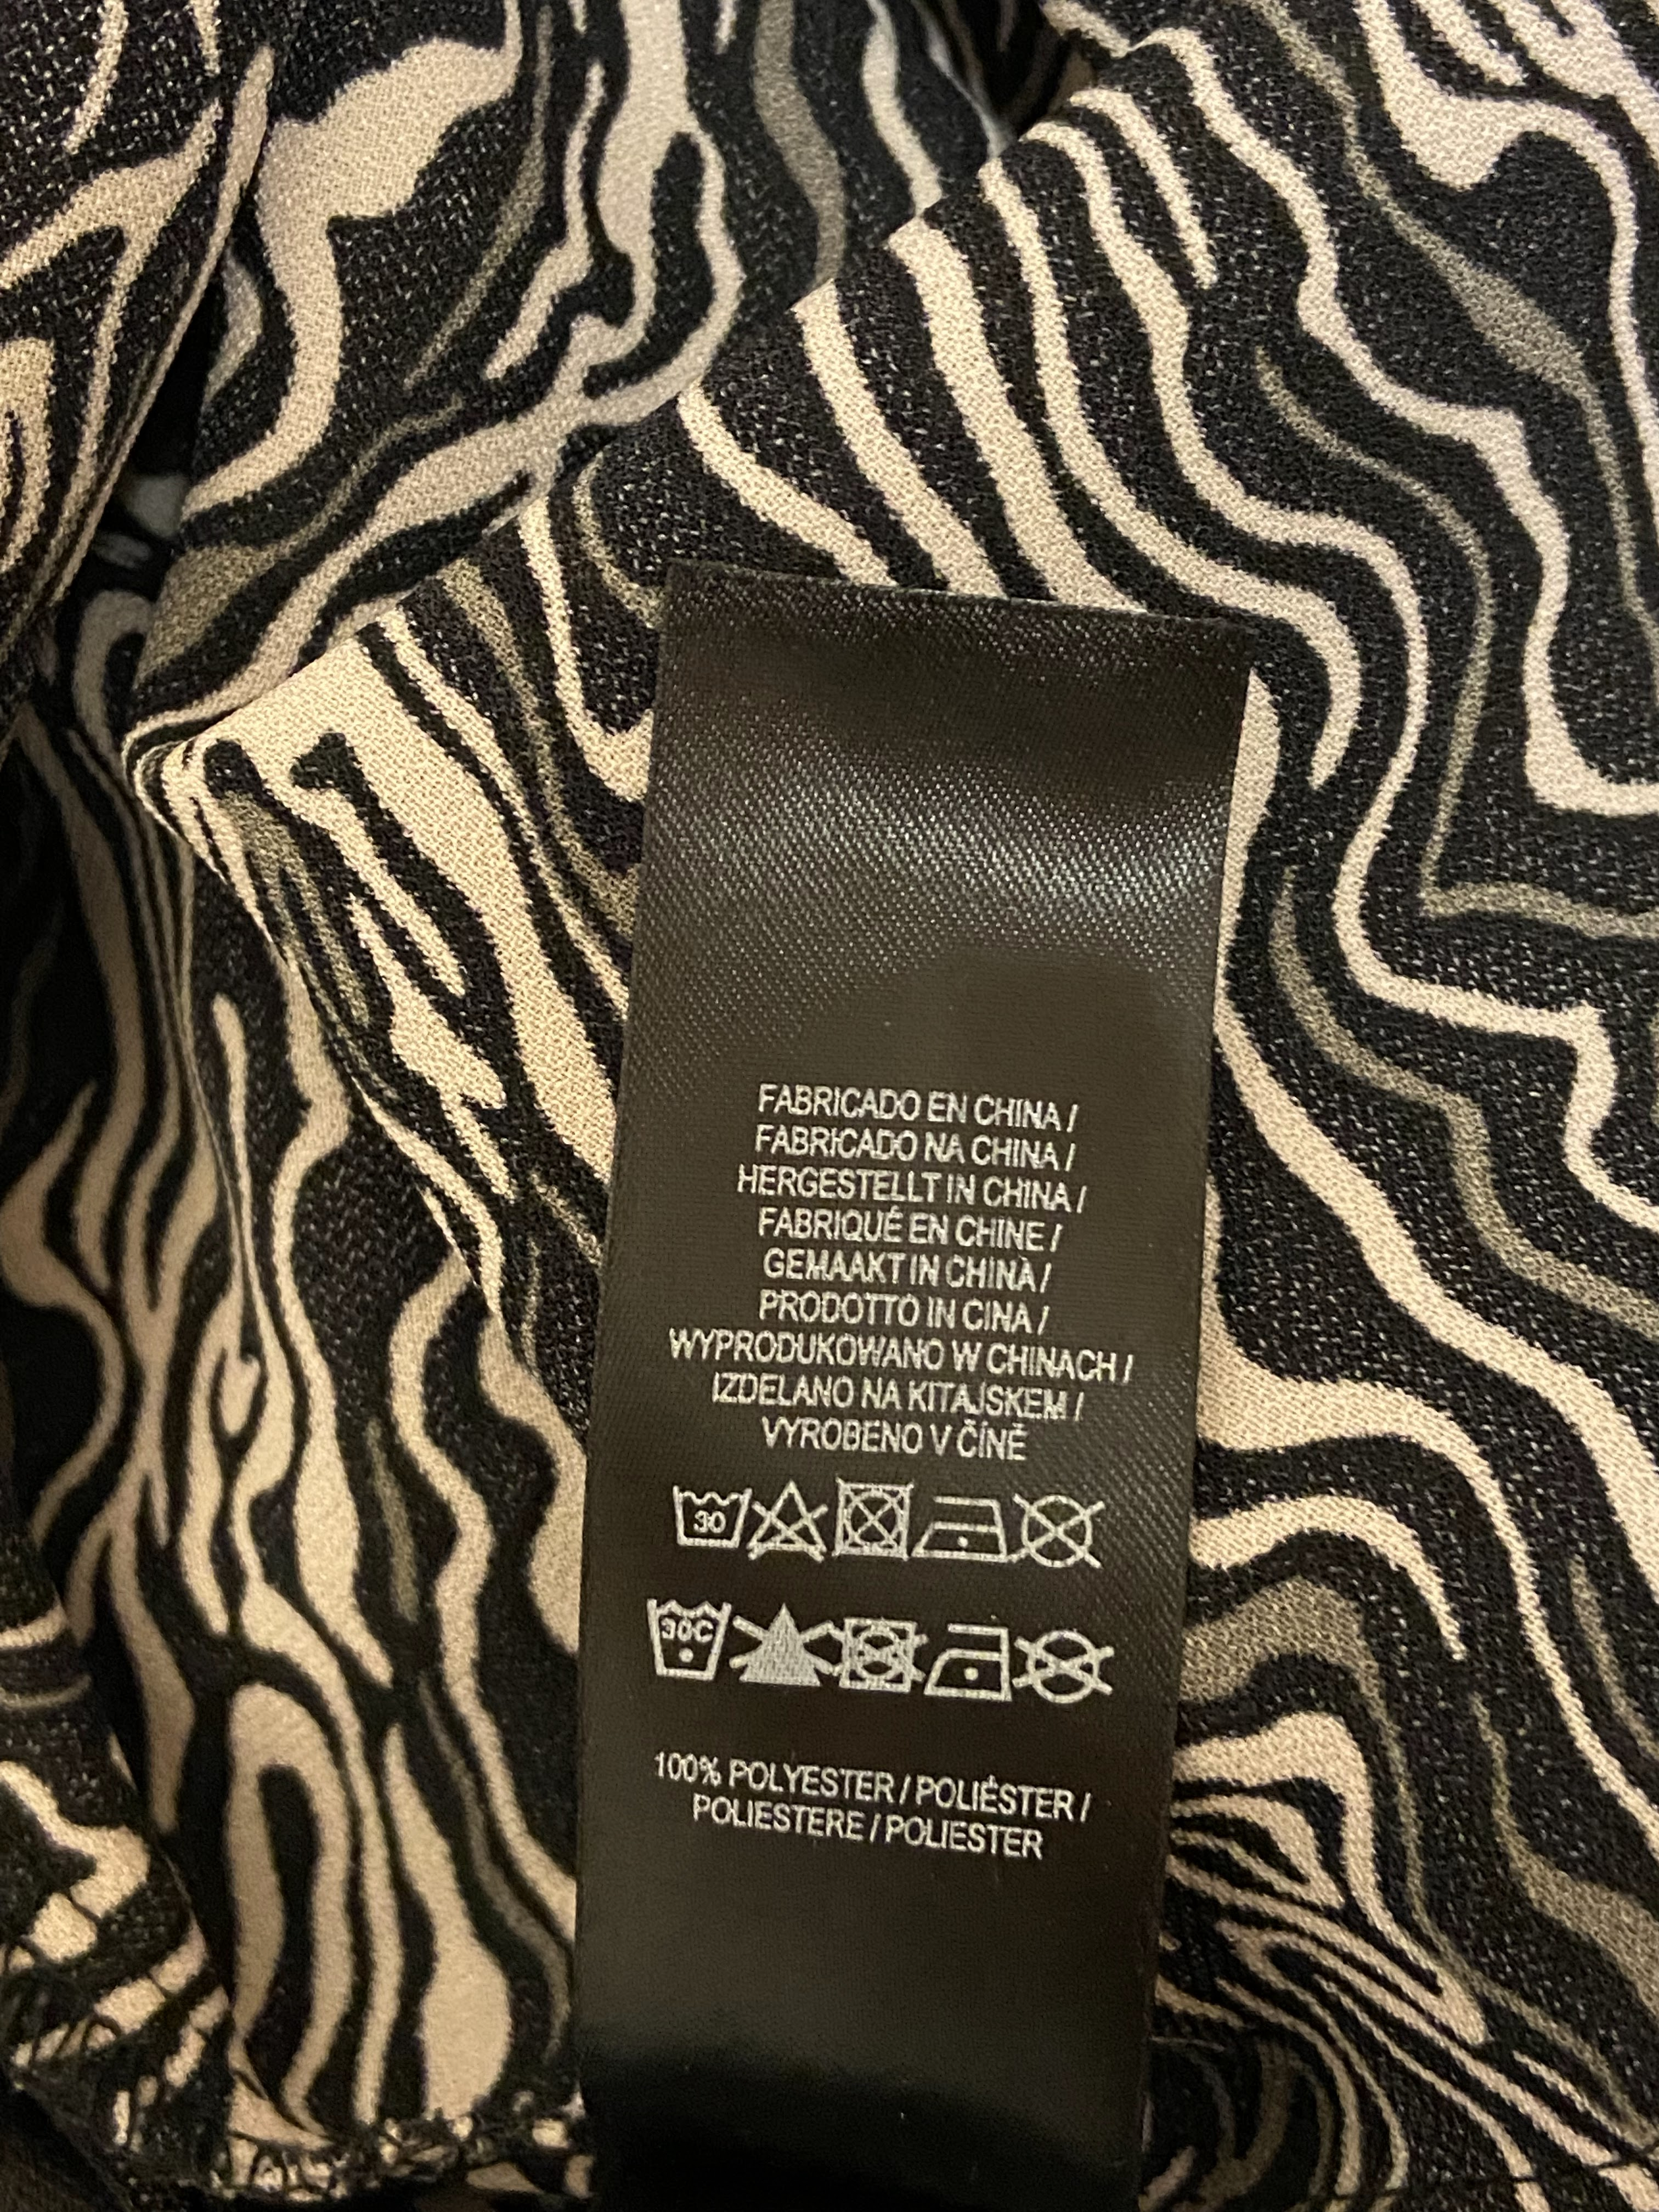do not bleach: (751, 1467, 838, 1581)
do not dry clean: (1009, 1479, 1136, 1595)
do not tumble dry: (830, 1467, 924, 1578)
iron low temp: (920, 1480, 1018, 1590)
wash at or below 30: (657, 1472, 756, 1557)
